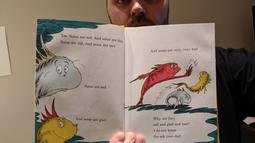text block: (57, 29, 127, 53), (148, 114, 195, 141), (148, 44, 201, 53), (71, 114, 110, 124), (82, 81, 111, 92)
